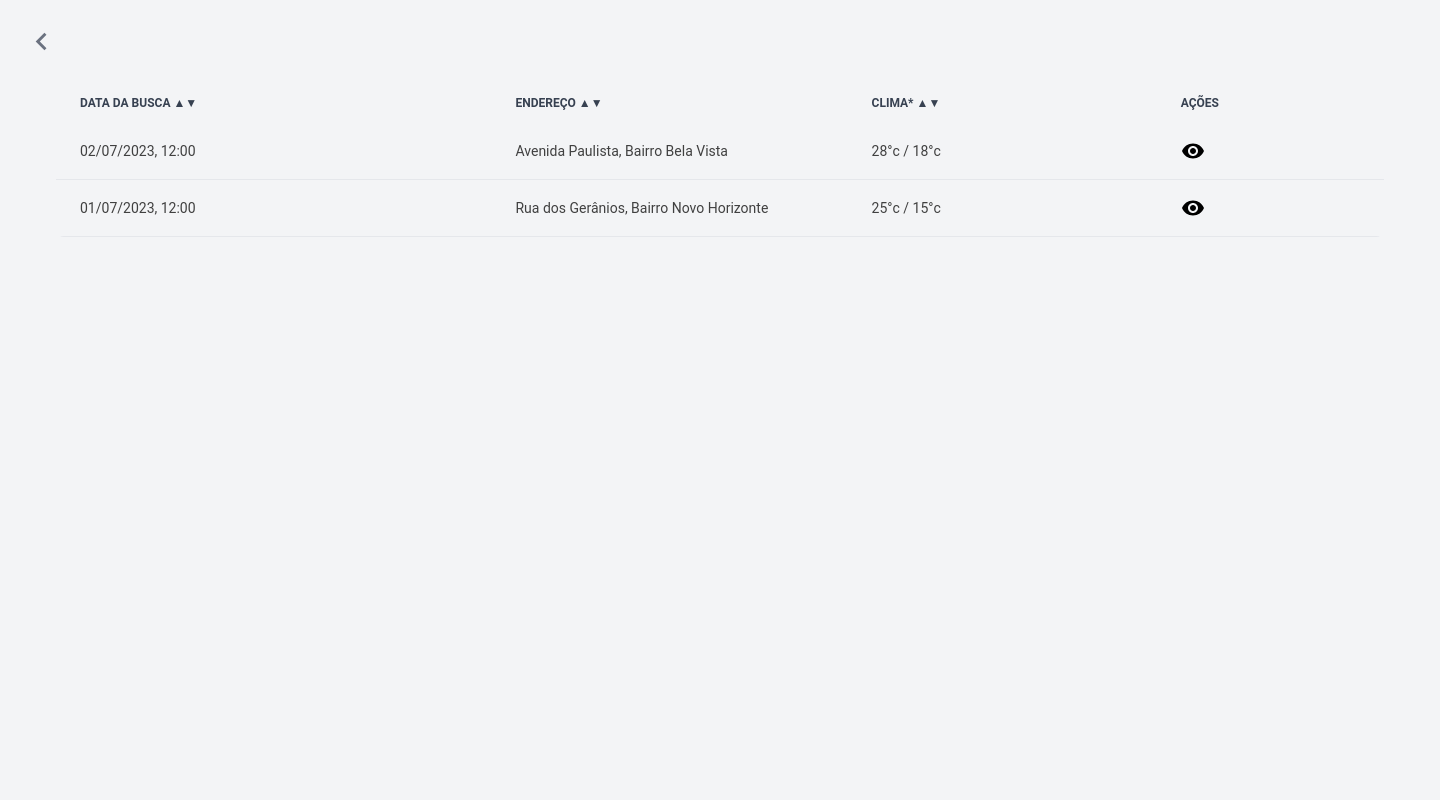
Test: Historic Page › should open modal when clicking view button
The image size is (1440, 800).
Click the button named "View" in the row of "02/07/2023, 12:00" at [1193, 151], box [1181,139,1205,163]
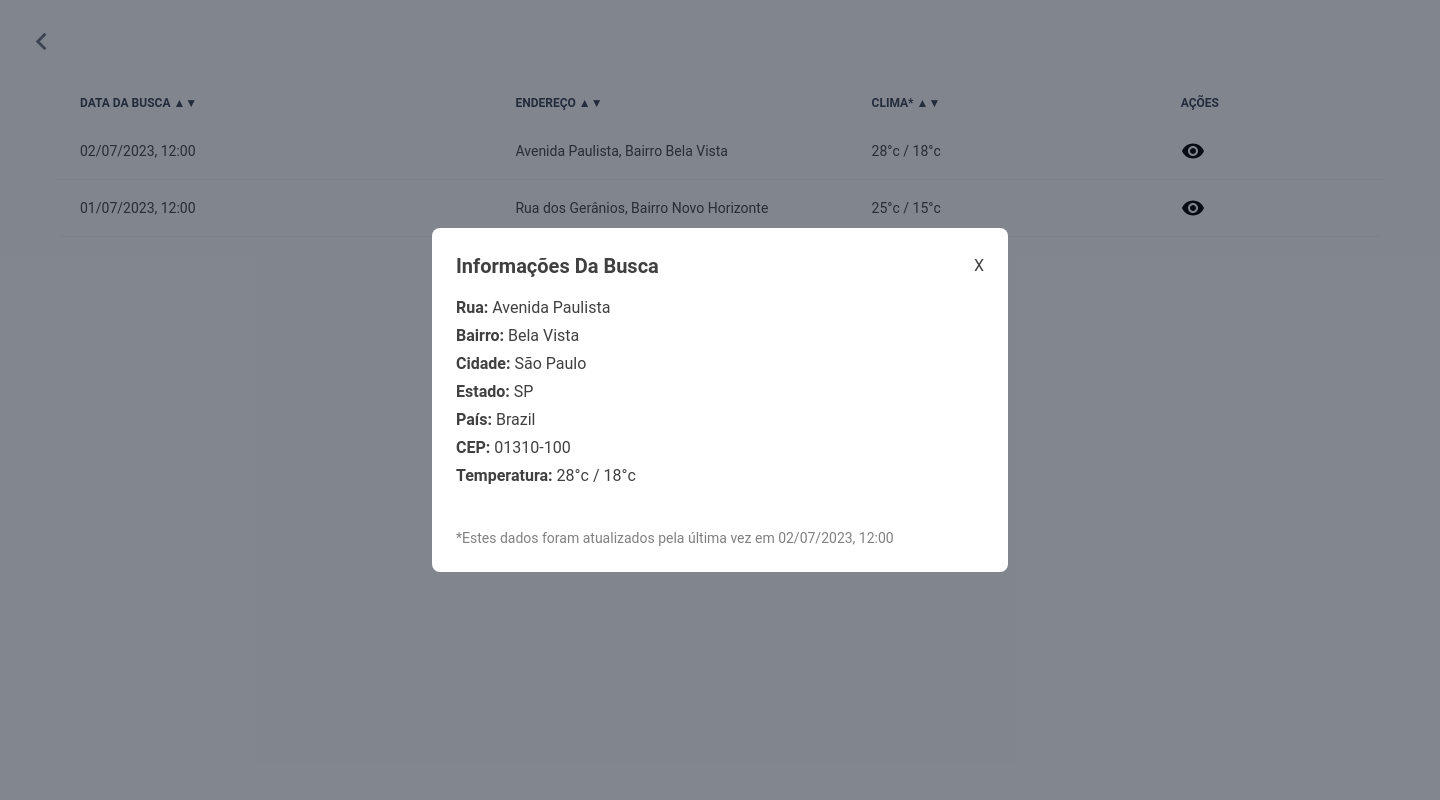
Result: the heading "Informações Da Busca" is shown at [456,252,659,280]
Result: the element showing "Rua: Avenida Paulista" is shown at [456,298,610,317]
